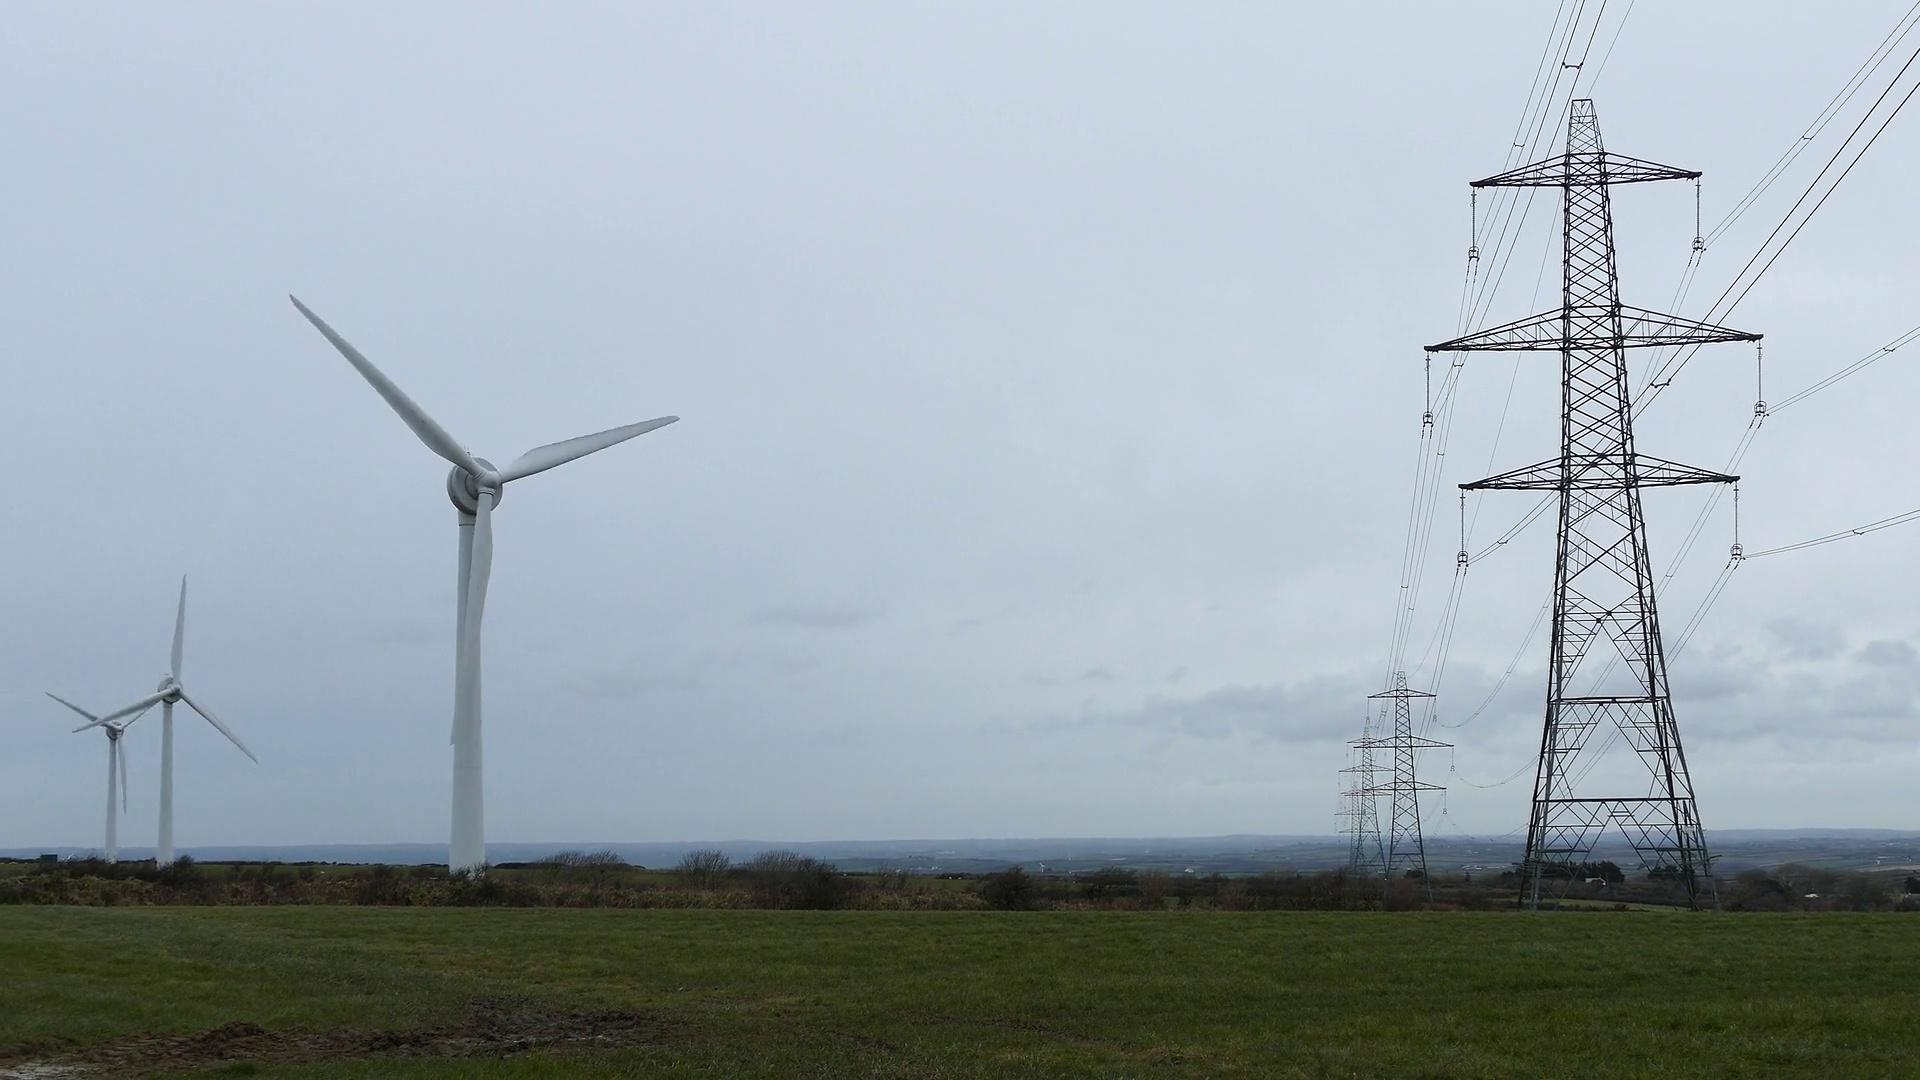cable tower: (1422, 90, 1766, 916), (1352, 669, 1456, 903), (1338, 729, 1395, 880), (1335, 783, 1378, 876)
turbine: (218, 175, 740, 949), (63, 579, 293, 918), (37, 633, 193, 887)
